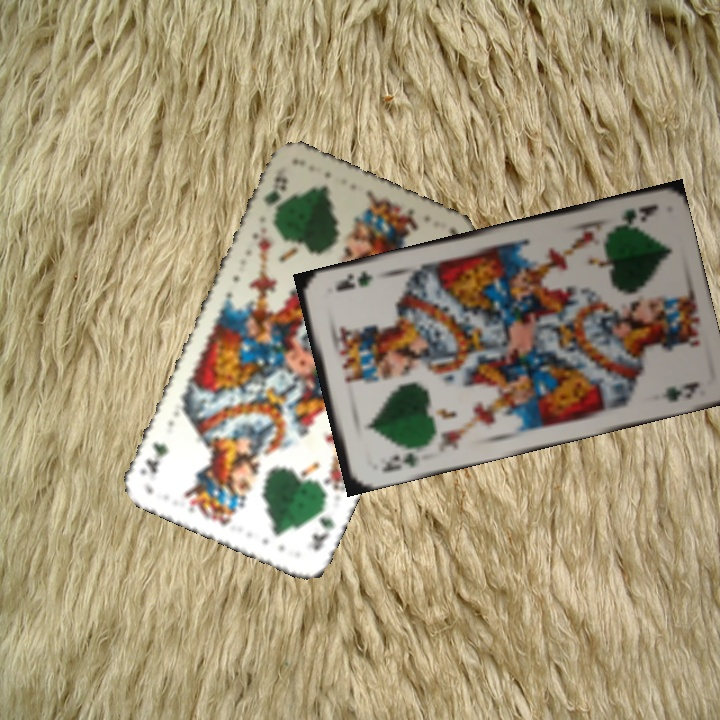GK: (307, 497, 337, 554), (609, 200, 660, 231), (260, 163, 289, 209), (378, 448, 422, 475)
